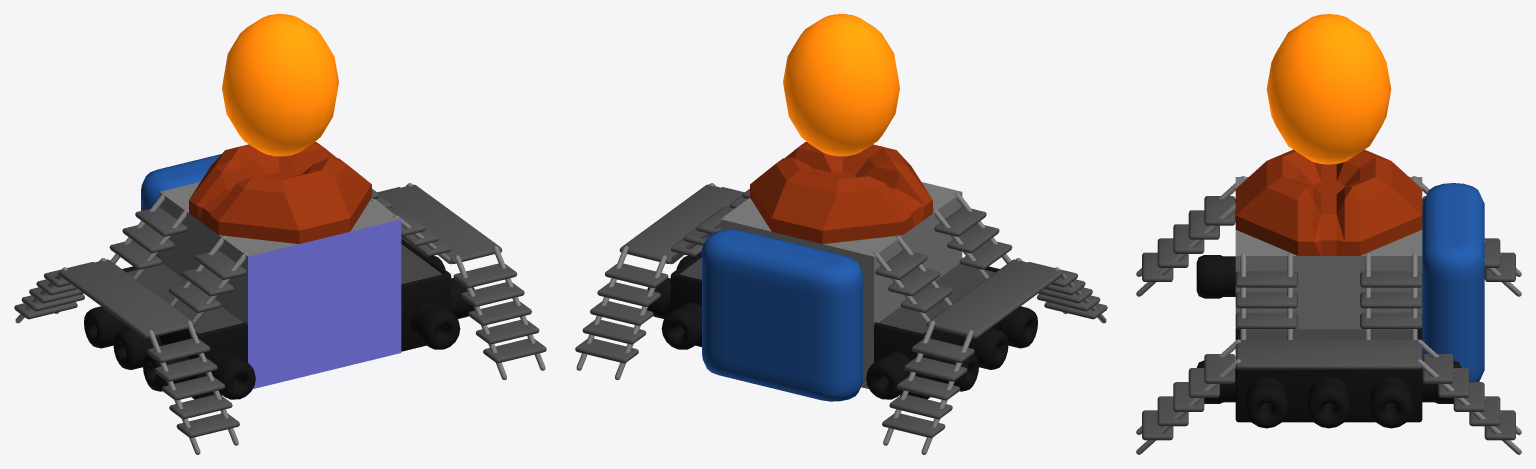
File: LastLuna_Model_Station_Portal.fbx
The picture shows the model from 3 angles, left to right: view 1: azimuth 30°, elevation 25°; view 2: azimuth 150°, elevation 25°; view 3: azimuth 270°, elevation 25°; orthographic projection. The views are drawn at different scales.
Parts seen in each view (by area): view 1: Box001, Stair_Platform001, Water_Collector001, Portal_Base001, Portal001, Stair_Support001, Water_Tank001; view 2: Stair_Platform001, Water_Tank001, Portal_Base001, Portal001, Water_Collector001, Box001, Stair_Support001; view 3: Stair_Platform001, Portal_Base001, Water_Collector001, Portal001, Water_Tank001, Box001, Stair_Support001.
Part boxes in pixels (x1,y1,x2,y2): Box001: (159, 182, 401, 388); Stair_Platform001: (14, 184, 546, 437); Water_Collector001: (84, 238, 474, 399); Portal_Base001: (189, 142, 371, 243); Portal001: (222, 14, 338, 156); Stair_Support001: (15, 183, 545, 454); Water_Tank001: (141, 154, 221, 257); Stair_Platform001: (575, 184, 1107, 437); Water_Tank001: (702, 229, 862, 401); Portal_Base001: (750, 142, 932, 243); Portal001: (783, 14, 899, 156); Water_Collector001: (647, 252, 1037, 399); Box001: (720, 182, 962, 388); Stair_Support001: (576, 183, 1106, 454); Stair_Platform001: (1142, 196, 1515, 440); Portal_Base001: (1235, 149, 1422, 255); Water_Collector001: (1196, 255, 1461, 428); Portal001: (1266, 14, 1391, 164); Water_Tank001: (1422, 183, 1484, 381); Box001: (1235, 177, 1422, 329); Stair_Support001: (1136, 176, 1521, 454).
Size of the model in its own units: 700 by 615 by 619.
